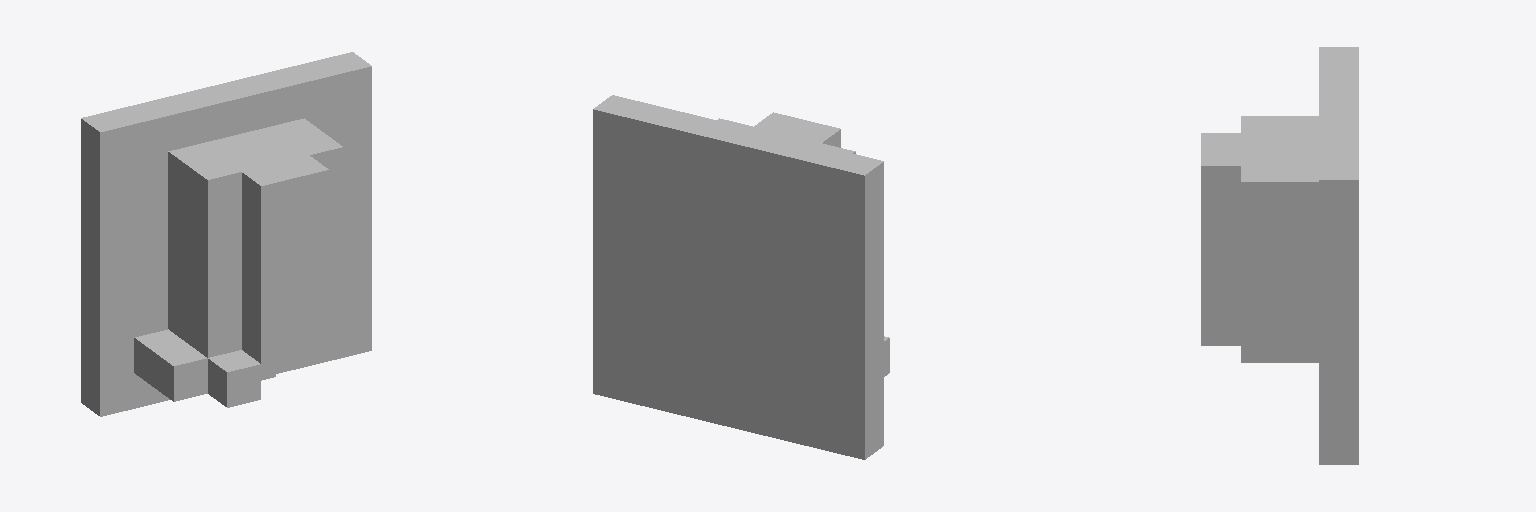
File: CentaurHoof.obj
The picture shows the model from 3 angles: view 1: azimuth 30°, elevation 25°; view 2: azimuth 150°, elevation 25°; view 3: azimuth 270°, elevation 25°; orthographic projection.
Visible parts, largest first — view 1: object 1; view 2: object 1; view 3: object 1.
Part boxes in pixels (left/top/right/bottom): object 1: left=81, top=52, right=371, bottom=416; object 1: left=593, top=95, right=889, bottom=459; object 1: left=1201, top=47, right=1358, bottom=464.
Size of the model in its own units: 0.8 by 0.8 by 0.4.